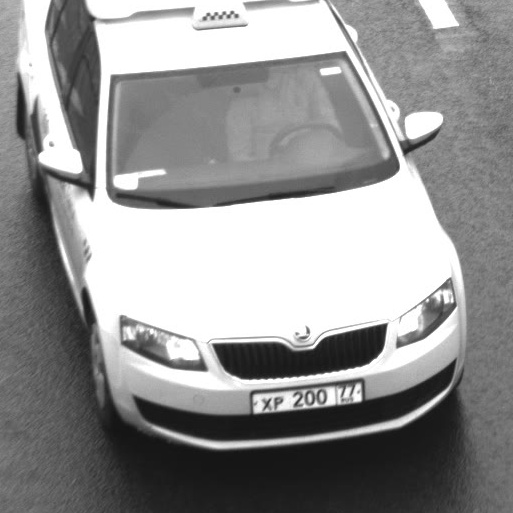plate: (238, 368, 375, 422)
